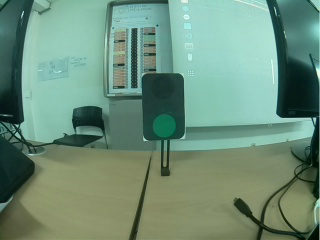green_light: (141, 75, 182, 140)
